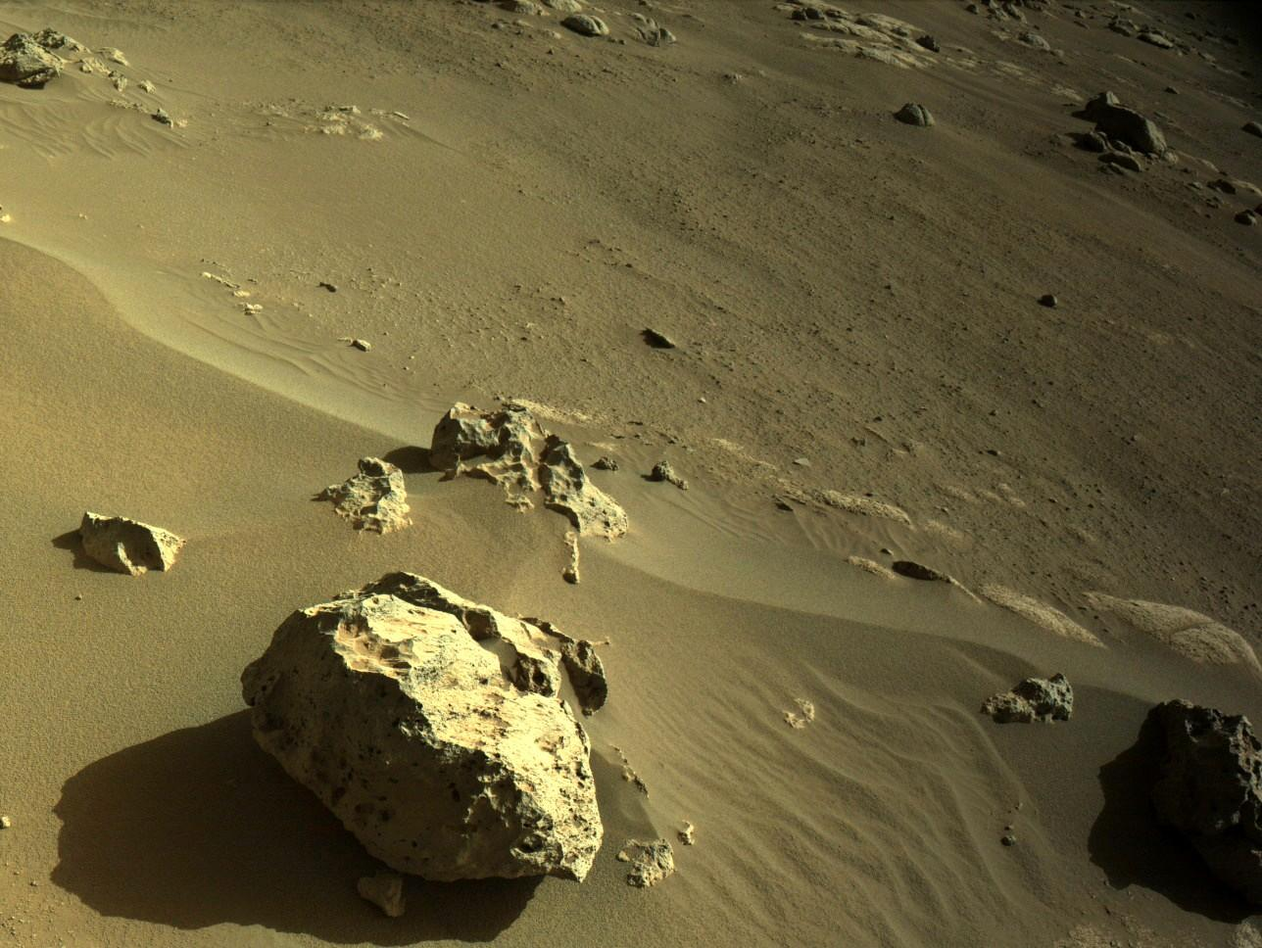bedrock: (737, 3, 1258, 223), (966, 567, 1260, 689), (663, 450, 956, 563), (600, 411, 677, 434), (655, 19, 691, 33), (1237, 233, 1238, 236)
big_rock: (226, 559, 618, 916), (1129, 698, 1261, 933), (501, 398, 607, 422), (1235, 174, 1260, 240)
sand: (0, 25, 1257, 947), (550, 416, 568, 422)
soil: (10, 8, 1258, 636), (667, 8, 777, 18)
